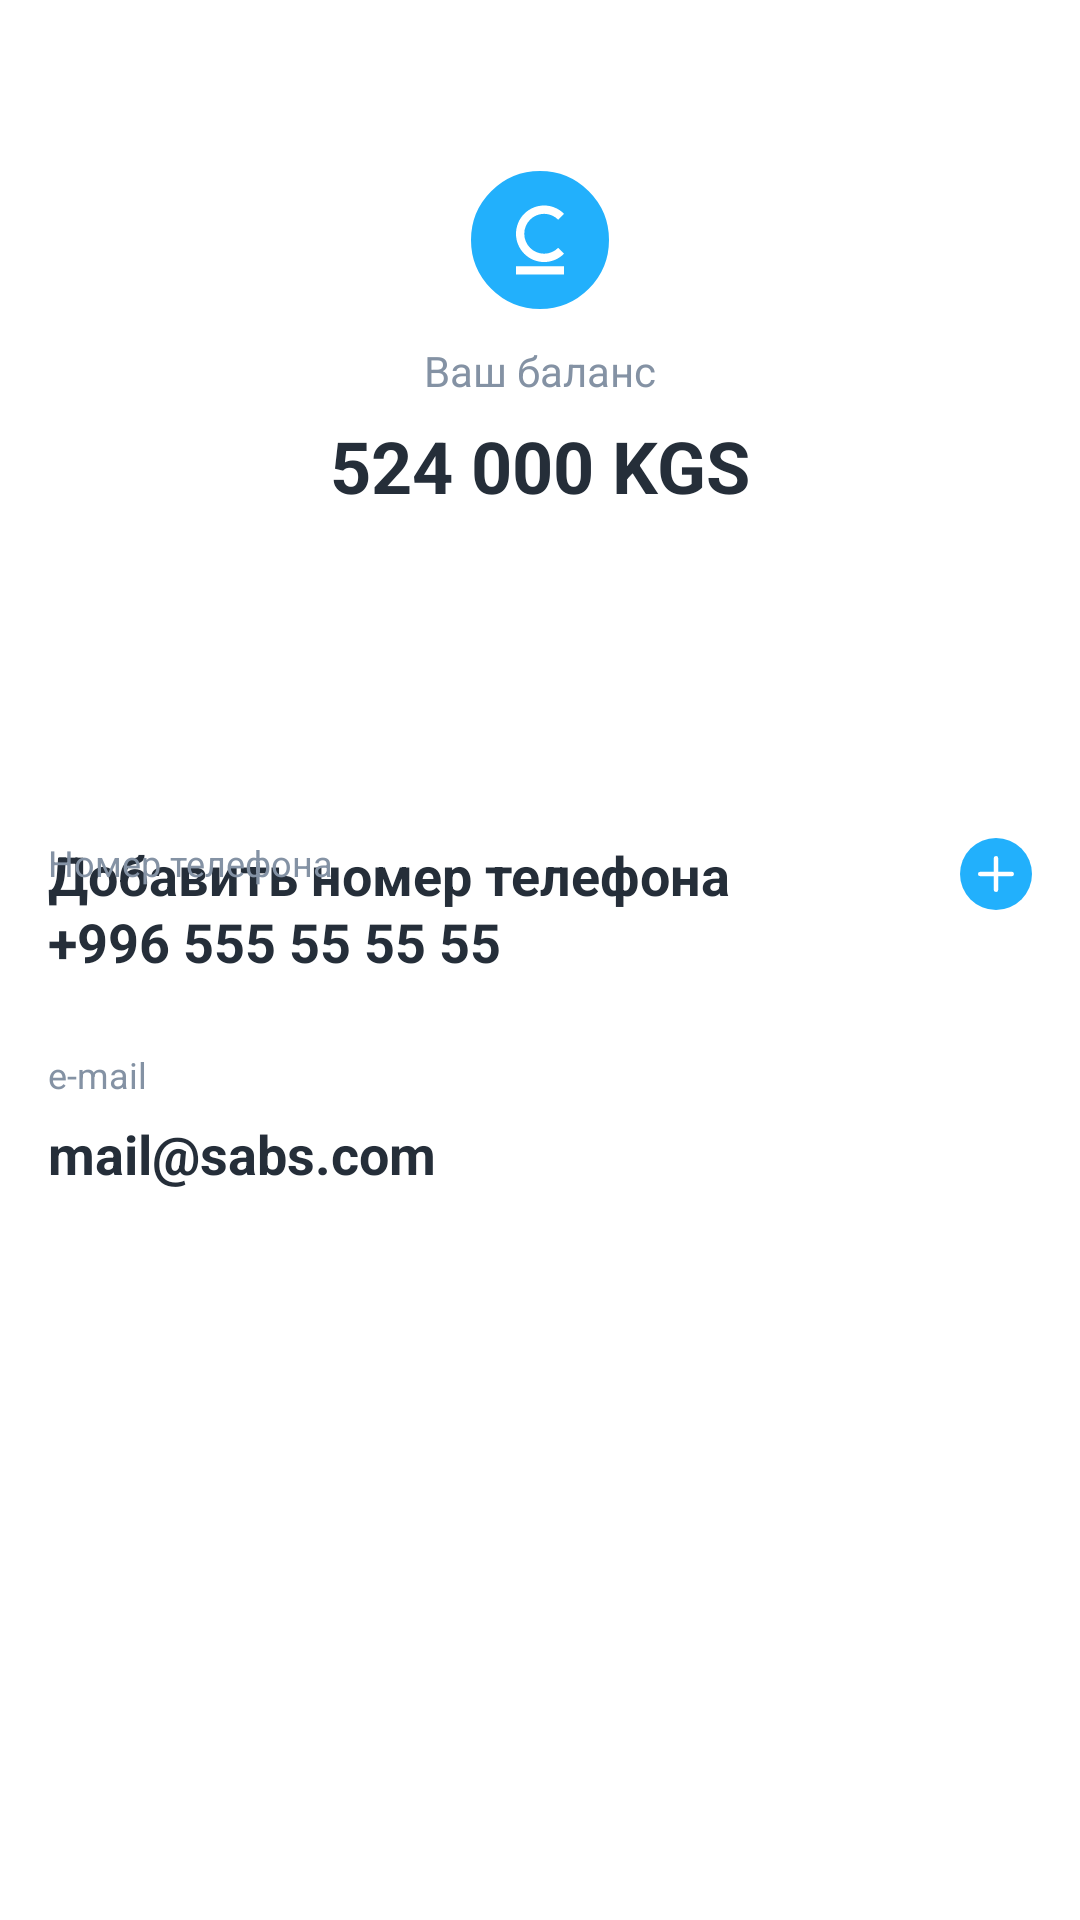

Icon bounding boxes for this 1080x1920 phone screenshot, format region(x1, y1, x2, y2):
balance: region(471, 171, 609, 309)
